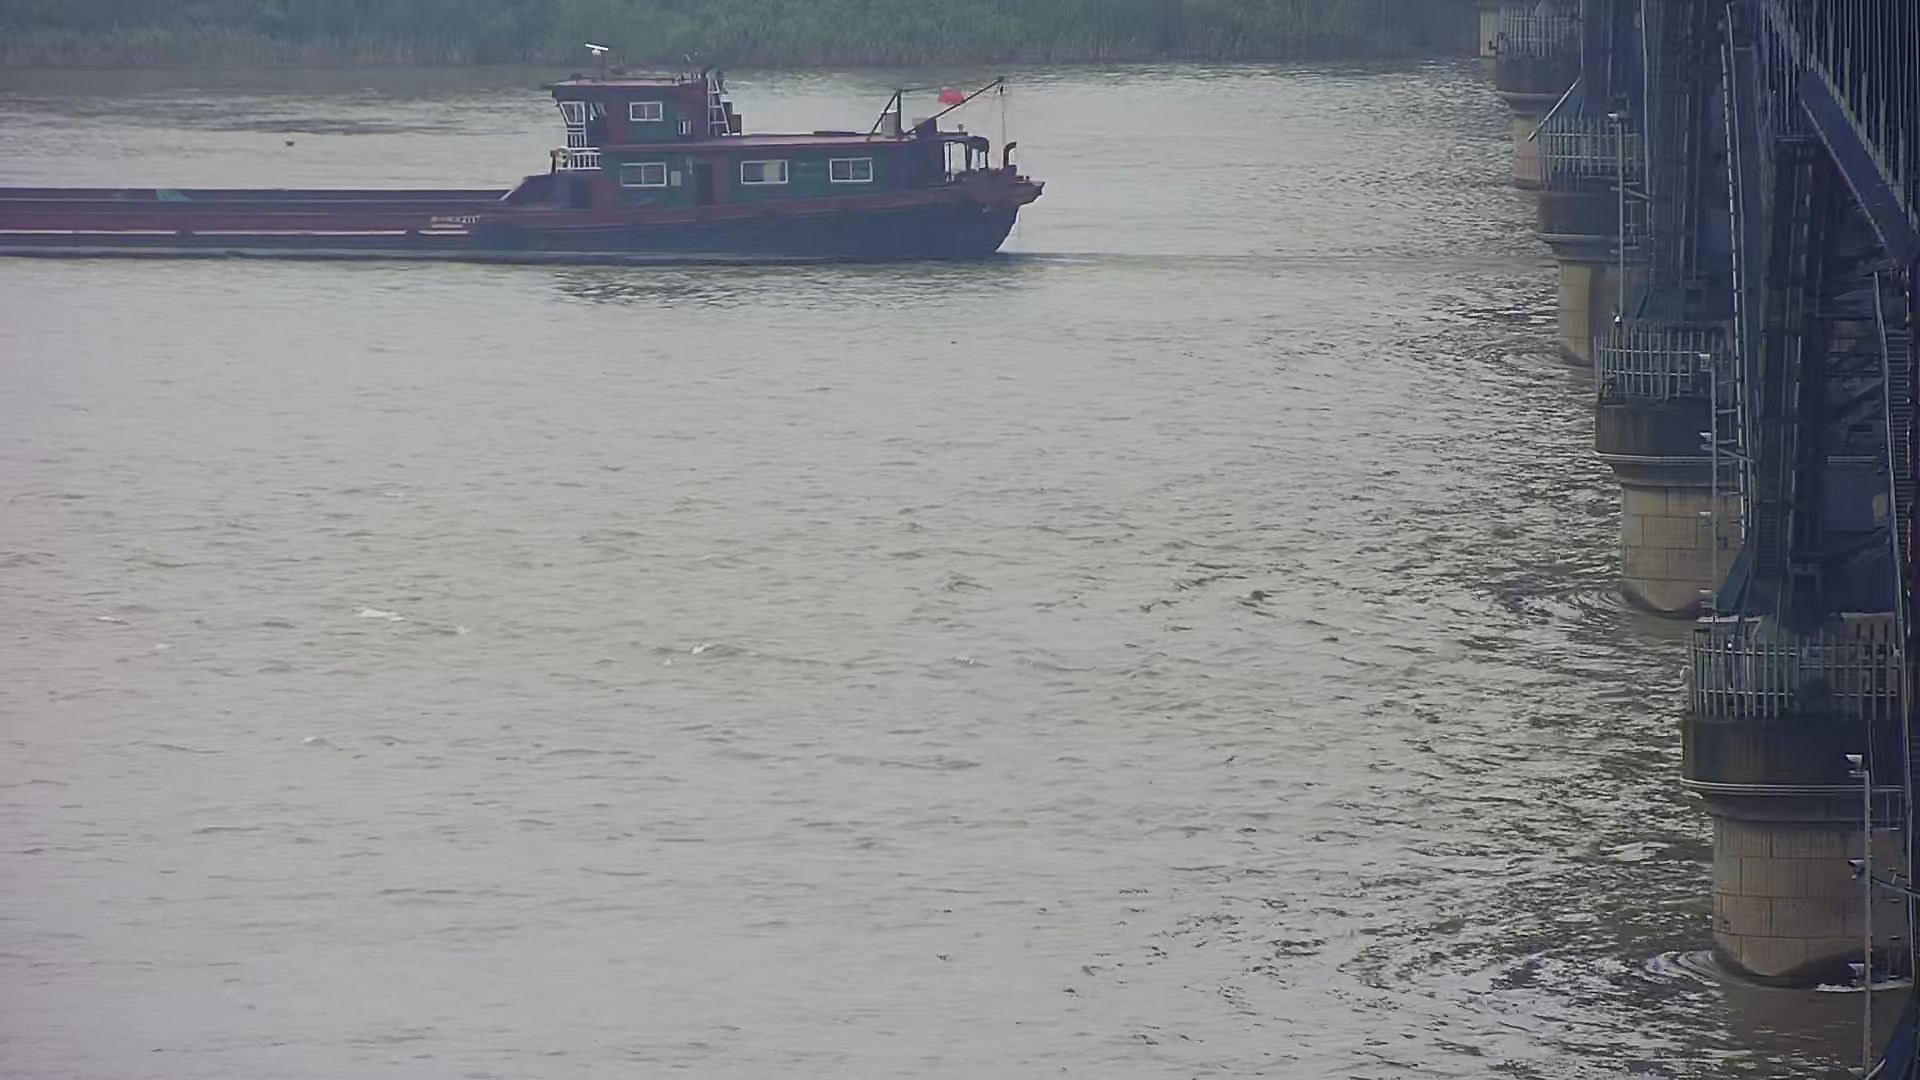bridge: (1577, 400, 1919, 1073), (1484, 1, 1920, 386)
ship: (1, 38, 1092, 276)
